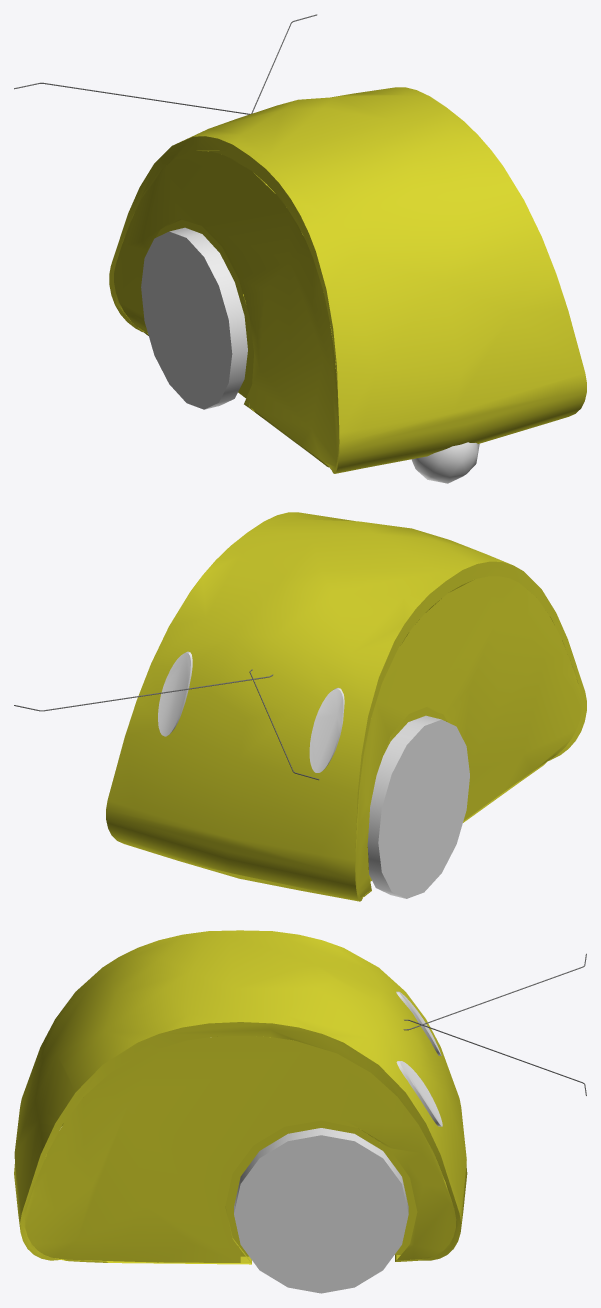
Rendered from car1_yellow.gltf.
3 renders of one model, top to bottom at view 1: azimuth 30°, elevation 25°; view 2: azimuth 150°, elevation 25°; view 3: azimuth 270°, elevation 25°, orthographic. The views are drawn at different scales.
Parts seen in each view (by area): view 1: Cylinder.009_3, Cylinder.009; view 2: Cylinder.009_3, Cylinder.009; view 3: Cylinder.009_3, Cylinder.009.
Part boxes in pixels (x1,y1,x2,y2): Cylinder.009_3: (109, 87, 586, 483); Cylinder.009: (14, 14, 317, 114); Cylinder.009_3: (106, 512, 586, 901); Cylinder.009: (14, 669, 319, 780); Cylinder.009_3: (14, 930, 467, 1293); Cylinder.009: (403, 953, 586, 1095).
Size of the model in its own units: 0.1217 by 0.1085 by 0.2082.
